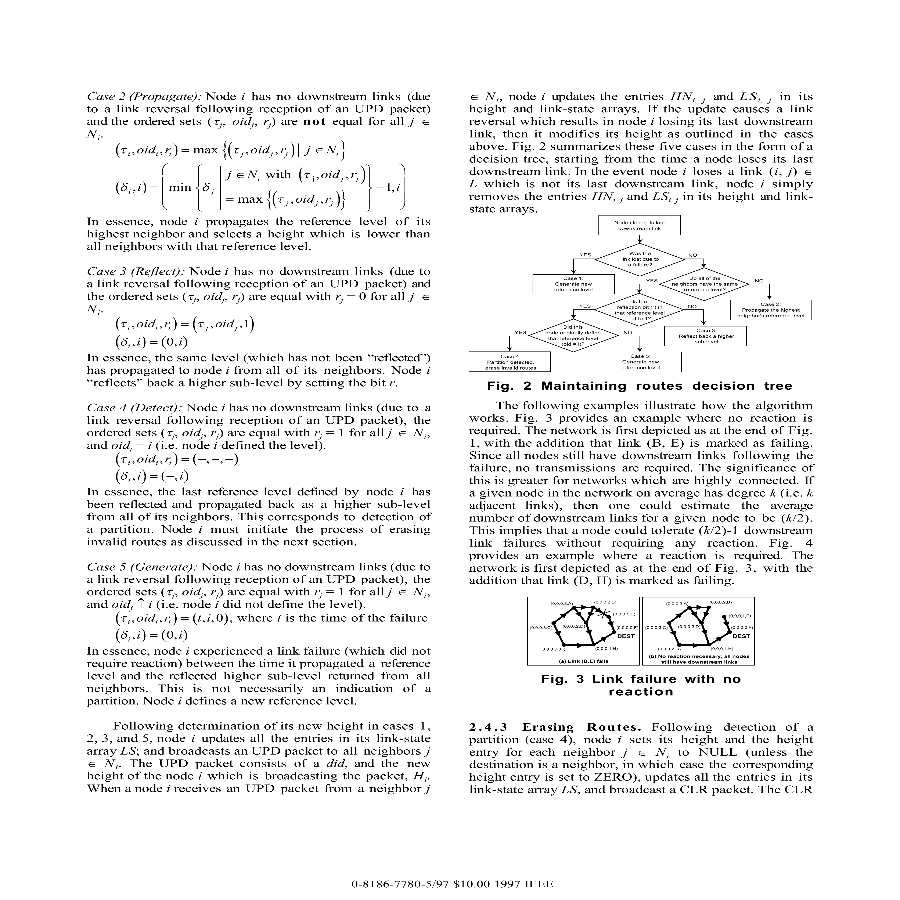eq: (113, 162, 410, 215), (112, 140, 349, 159), (112, 315, 257, 333), (113, 452, 242, 468), (114, 610, 229, 626), (114, 334, 192, 351), (115, 469, 191, 486), (113, 629, 189, 642)
